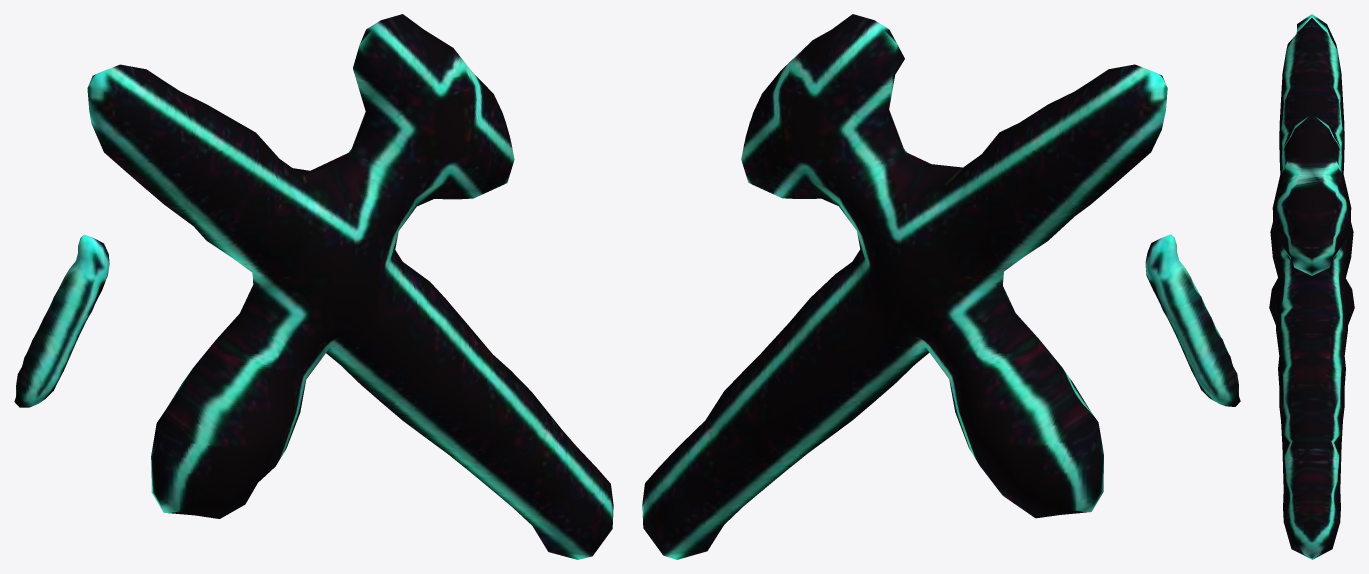
The model's file is drone.obj.
3 renders of one model, left to right at view 1: azimuth 30°, elevation 25°; view 2: azimuth 150°, elevation 25°; view 3: azimuth 270°, elevation 25°, orthographic. The views are drawn at different scales.
Bounding box in the file's own units: 1.38 × 1.34 × 0.2618.
Materials: 1 (1 with a texture image).
